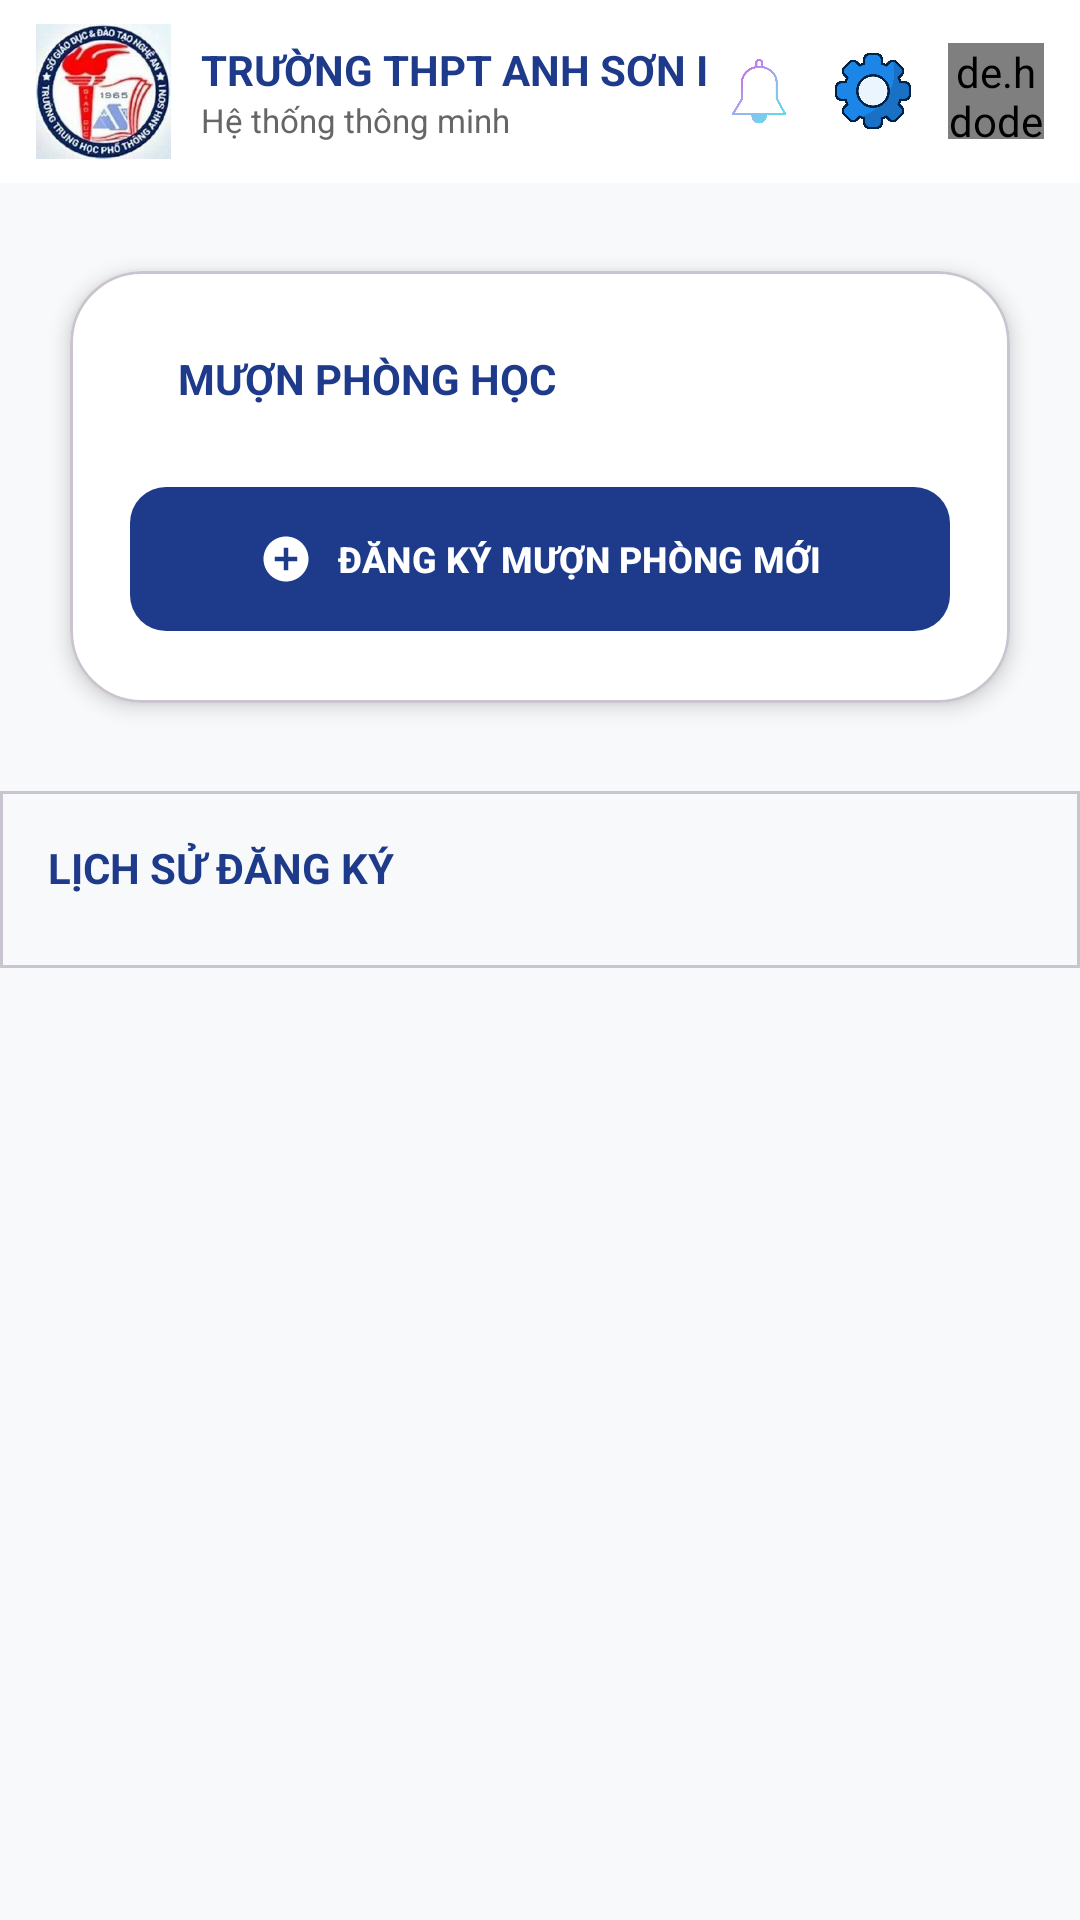

Point at icon controls on the screen. Image size 1080x1920, points as (x,y).
Notification: (759,91)
Settings: (873,91)
